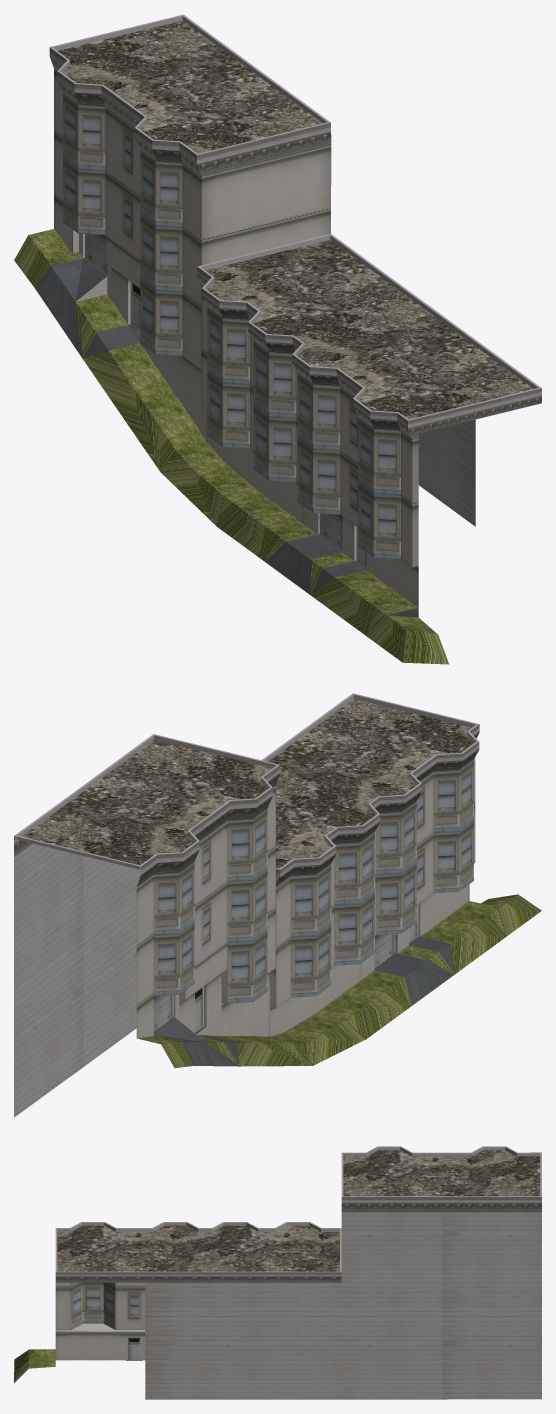
Rendered from vicnew_sfe02.obj.
The picture shows the model from 3 angles, top to bottom: view 1: azimuth 30°, elevation 25°; view 2: azimuth 150°, elevation 25°; view 3: azimuth 270°, elevation 25°; orthographic projection. The views are drawn at different scales.
Parts seen in each view (by area): view 1: vicnew_sfe02; view 2: vicnew_sfe02; view 3: vicnew_sfe02.
Part boxes in pixels (x1,y1,x2,y2): vicnew_sfe02: (14,14,541,664); vicnew_sfe02: (14,693,541,1117); vicnew_sfe02: (14,1146,541,1399).
Bounding box in the file's own units: 15.46 × 29.17 × 61.34.
Materials: 13 (13 with a texture image).
